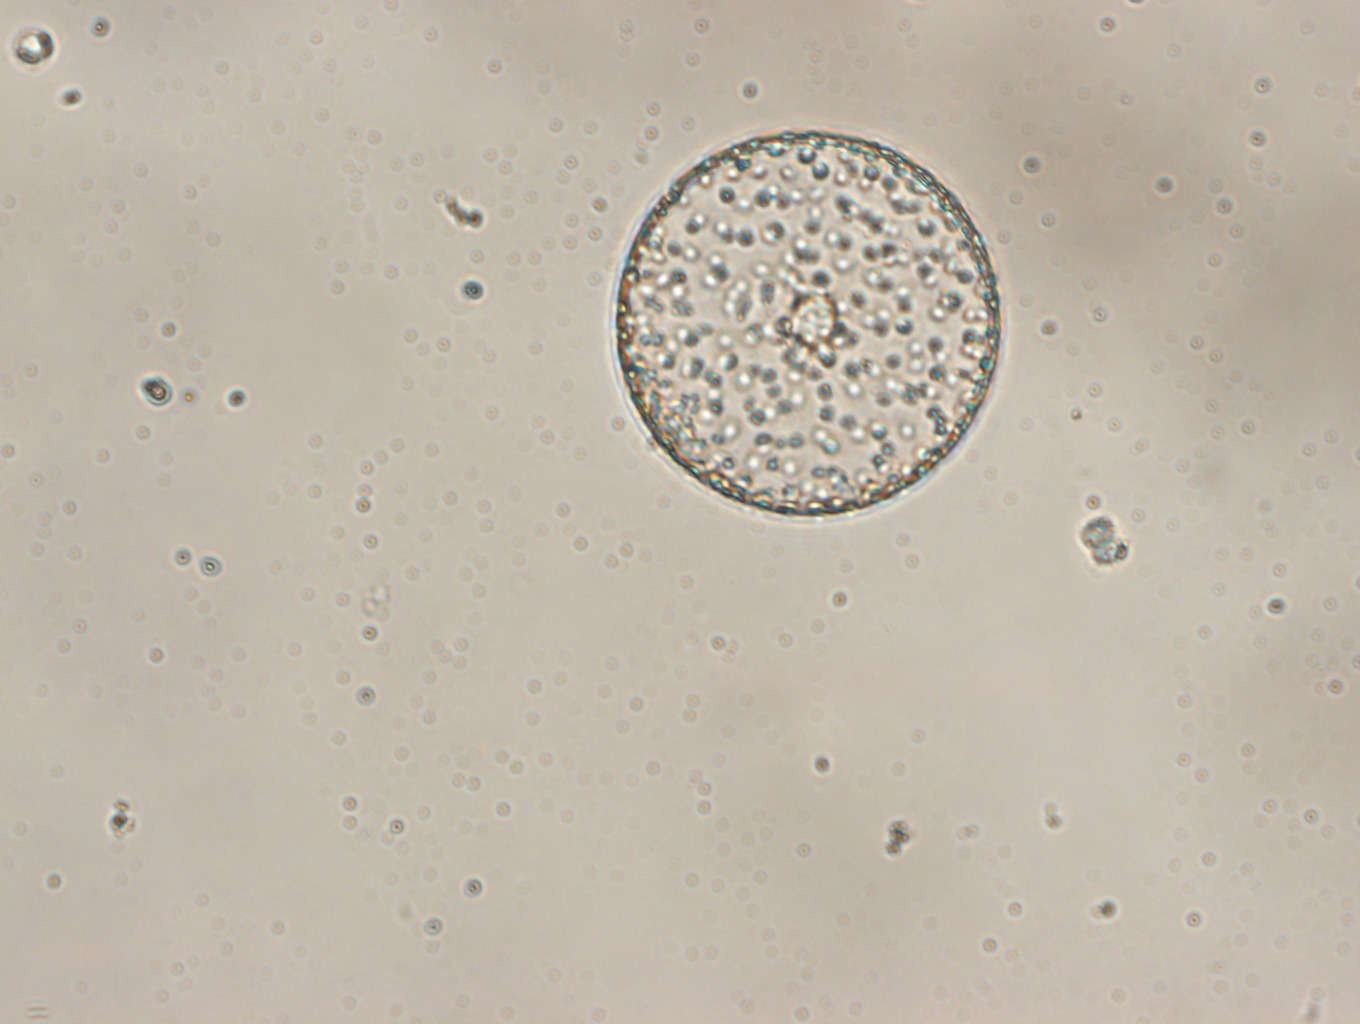coscinodiscus: (610, 127, 1004, 520)
